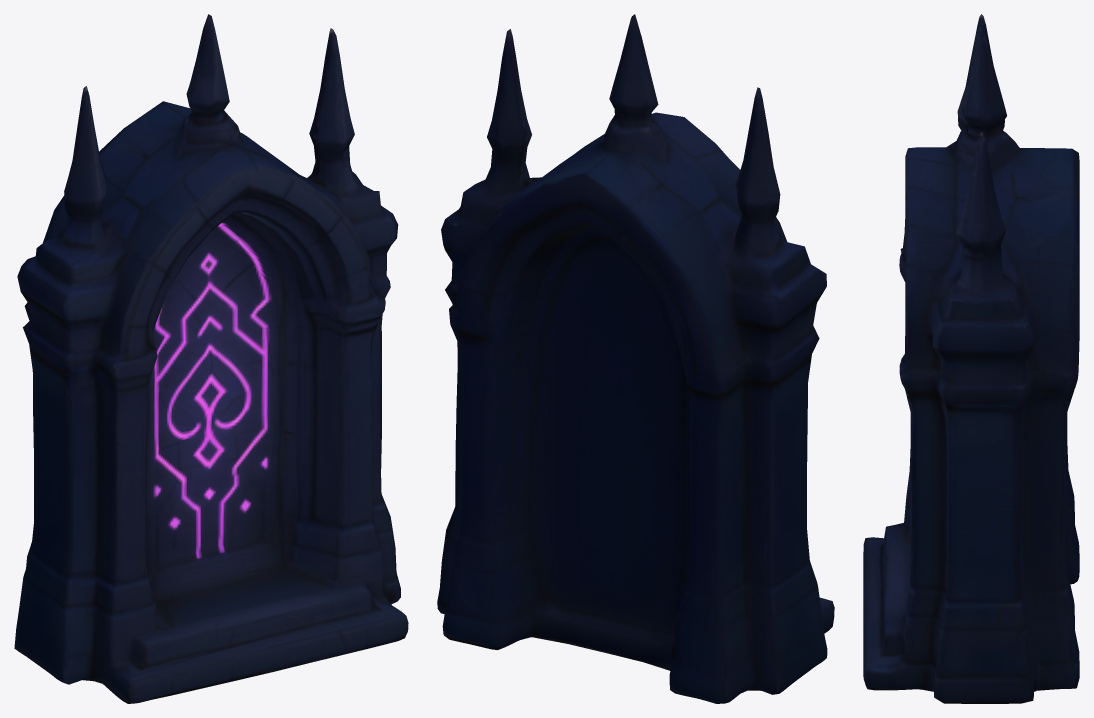
Rendered from Door_O_v2.fbx.
3 renders of one model, left to right at view 1: azimuth 30°, elevation 25°; view 2: azimuth 150°, elevation 25°; view 3: azimuth 270°, elevation 25°, orthographic. The views are drawn at different scales.
Visible parts, largest first — view 1: RETOPO; view 2: RETOPO; view 3: RETOPO.
Boxes of the visible parts, <box> form: RETOPO: <box>14,14,408,703</box>; RETOPO: <box>437,14,834,703</box>; RETOPO: <box>863,14,1079,703</box>.
Bounding box in the file's own units: 57.32 × 99.37 × 32.78.
